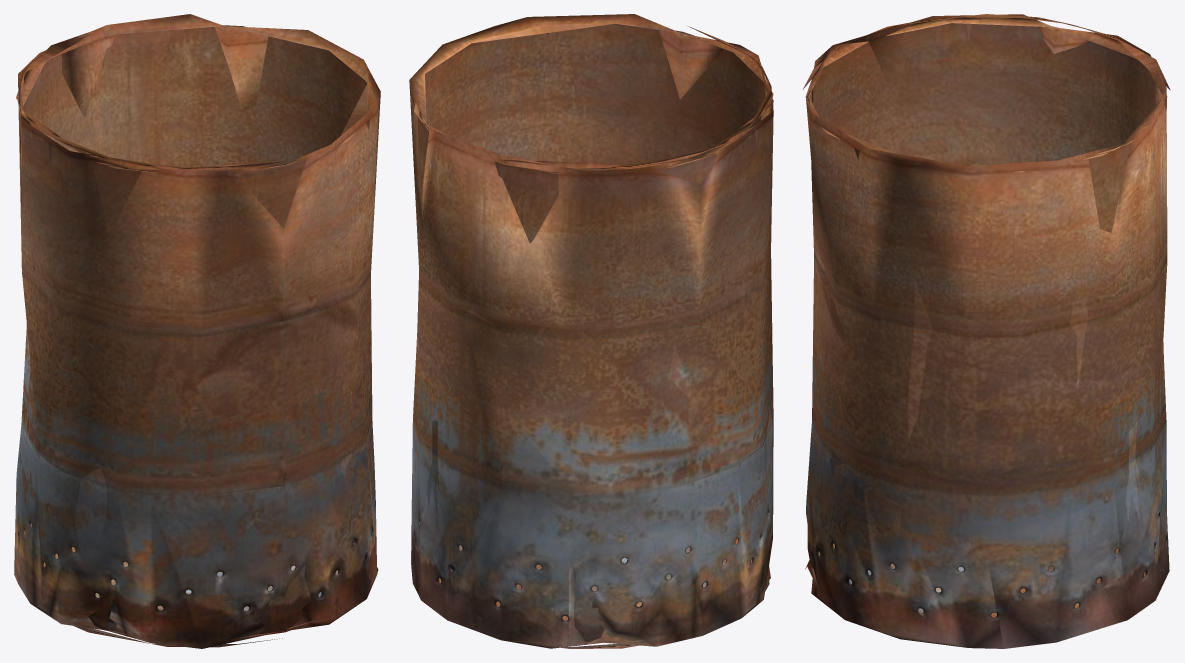
The model's file is barrel_stove.glb.
The picture shows the model from 3 angles, left to right: view 1: azimuth 30°, elevation 25°; view 2: azimuth 150°, elevation 25°; view 3: azimuth 270°, elevation 25°; orthographic projection.
Visible parts, largest first — view 1: barrel_stove; view 2: barrel_stove; view 3: barrel_stove.
Boxes of the visible parts, <box> form: barrel_stove: <box>14,14,380,648</box>; barrel_stove: <box>409,14,773,648</box>; barrel_stove: <box>803,14,1170,648</box>.
Bounding box in the file's own units: 0.5853 × 0.8556 × 0.5887.
Materials: 1 (1 with a texture image).
